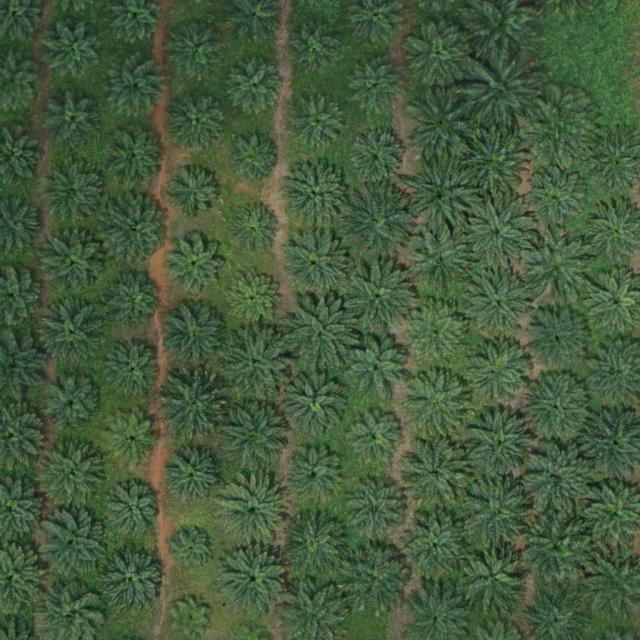Healthy: (524, 93, 595, 164), (469, 55, 540, 126), (101, 195, 172, 266), (160, 439, 231, 510), (280, 231, 351, 302), (521, 165, 592, 236), (464, 481, 535, 552), (219, 547, 290, 618), (409, 91, 479, 162), (102, 50, 172, 121), (39, 228, 109, 299), (36, 439, 106, 510), (162, 301, 232, 372), (157, 371, 227, 442), (223, 329, 293, 400), (221, 399, 291, 470), (286, 297, 356, 368), (282, 441, 352, 512), (345, 189, 415, 260), (404, 370, 474, 441), (462, 201, 532, 272), (463, 270, 533, 341), (466, 410, 536, 481), (524, 232, 594, 303), (341, 547, 411, 618), (280, 511, 350, 582), (404, 20, 474, 90), (38, 295, 108, 365), (218, 478, 288, 548), (280, 159, 350, 229), (282, 368, 352, 438), (344, 263, 414, 333), (406, 163, 476, 233), (407, 227, 477, 297), (399, 439, 469, 509), (457, 127, 527, 197), (522, 304, 592, 374), (521, 375, 591, 445), (522, 445, 592, 515), (523, 514, 593, 584), (459, 543, 529, 613), (402, 513, 472, 583), (100, 547, 170, 617), (37, 510, 107, 580), (165, 19, 228, 82), (344, 336, 407, 399), (404, 303, 467, 366), (166, 89, 228, 152), (43, 19, 105, 82), (42, 370, 104, 433), (102, 269, 165, 331), (102, 340, 165, 402), (346, 479, 408, 542), (467, 340, 529, 403), (44, 160, 106, 222), (163, 235, 225, 297), (348, 59, 403, 114), (351, 132, 406, 187), (287, 23, 342, 78), (228, 58, 283, 113), (108, 129, 163, 184), (105, 413, 160, 468), (106, 485, 161, 540), (168, 167, 223, 222), (227, 131, 282, 186), (227, 272, 282, 327), (291, 95, 345, 151), (46, 94, 100, 149), (350, 411, 404, 466)
Small: (229, 201, 284, 256), (175, 530, 214, 570), (172, 600, 211, 639)
